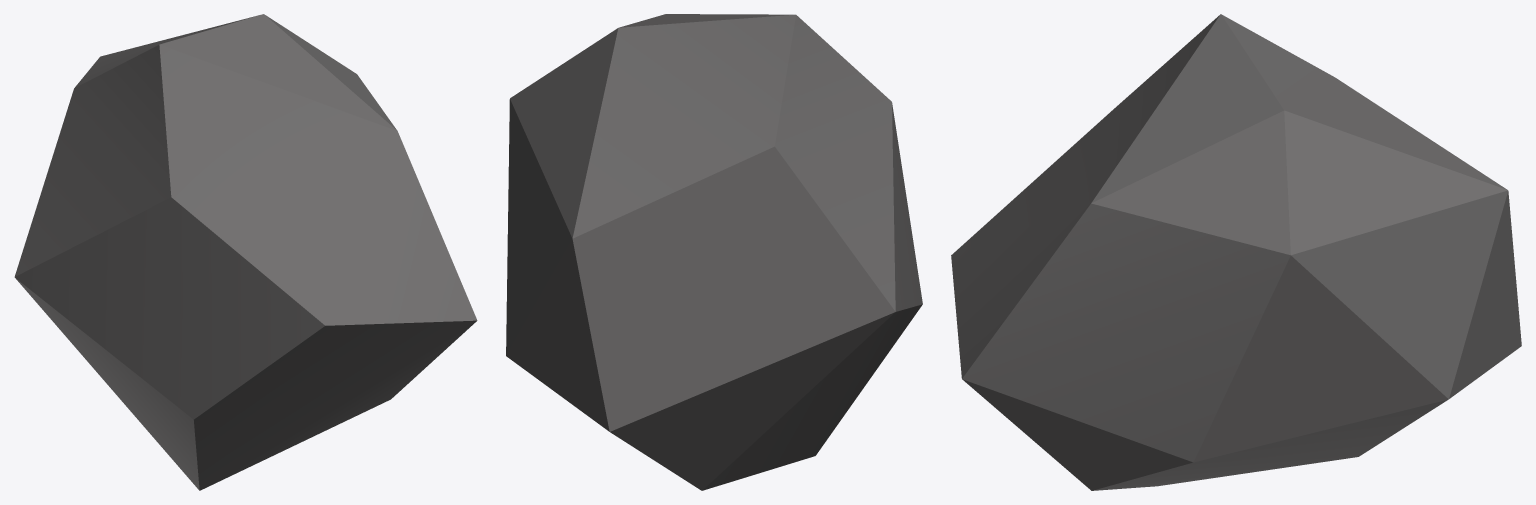
Rendered from RockL.fbx.
The picture shows the model from 3 angles, left to right: view 1: azimuth 30°, elevation 25°; view 2: azimuth 150°, elevation 25°; view 3: azimuth 270°, elevation 25°; orthographic projection. The views are drawn at different scales.
Parts seen in each view (by area): view 1: RockL; view 2: RockL; view 3: RockL.
Part boxes in pixels (left/top/right/bottom): RockL: left=14, top=14, right=477, bottom=490; RockL: left=506, top=14, right=922, bottom=490; RockL: left=951, top=14, right=1521, bottom=490.
Bounding box in the file's own units: 18.91 × 21.93 × 24.33.
